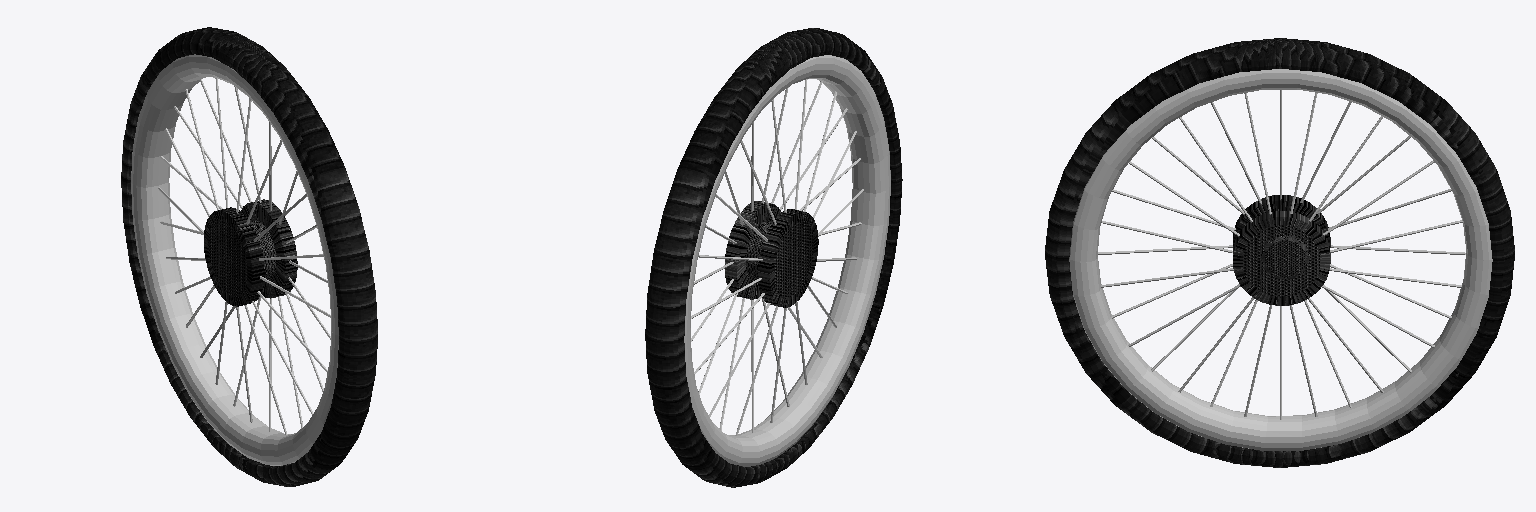
3 views of the same model, side by side, from view 1: azimuth 30°, elevation 25°; view 2: azimuth 150°, elevation 25°; view 3: azimuth 270°, elevation 25° (orthographic).
Parts seen in each view (by area): view 1: LLantafuera; view 2: LLantafuera; view 3: LLantafuera.
Boxes of the visible parts, <box> form: LLantafuera: <box>121,27,377,486</box>; LLantafuera: <box>645,28,902,487</box>; LLantafuera: <box>1045,38,1514,467</box>.
Size of the model in its own units: 0.4676 by 3.52 by 3.53.
4 materials, 2 textured.